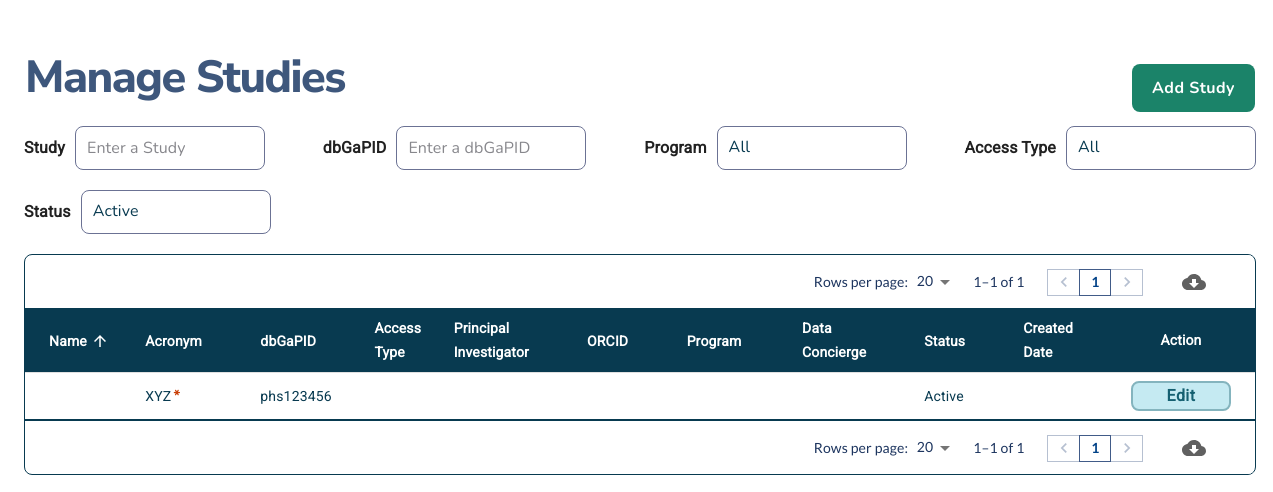
it: Implementation Requirements › should render asterisk and correct tooltip for pending model change condition
Expected: the text "XYZ" is shown, x1=145 y1=388 x2=171 y2=404
Hover over the text with test id "asterisk-XYZ".
mouse_move(177, 396)  # box x1=173 y1=385 x2=181 y2=407
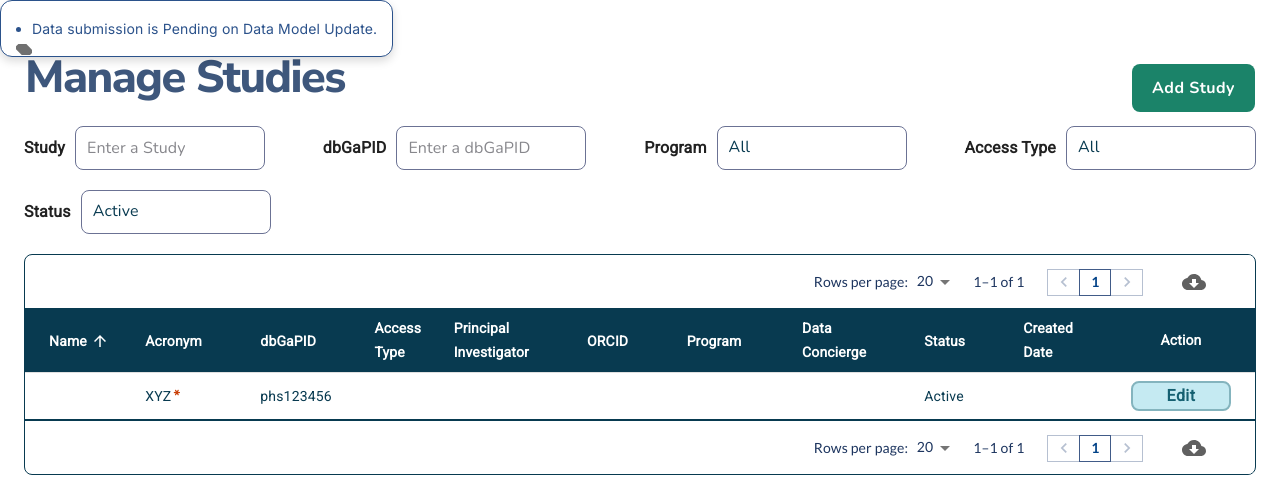
Now the list item "Data submission is Pending on Data Model Update." is shown, box x1=32 y1=19 x2=377 y2=38
